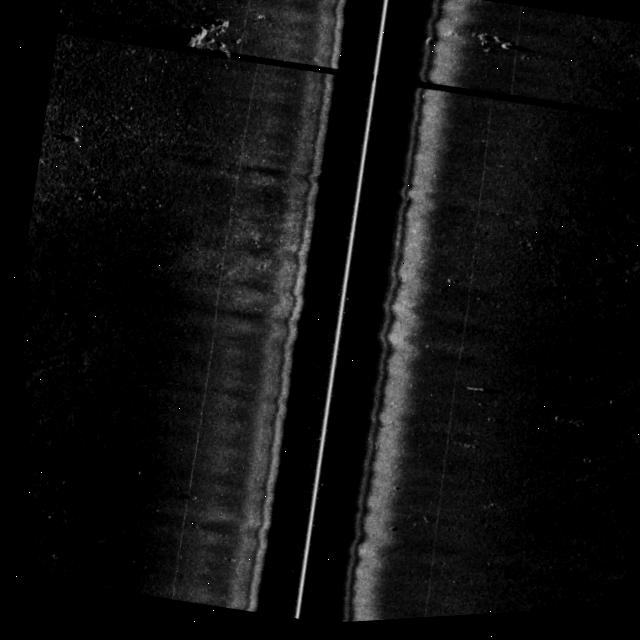mine: (454, 383, 499, 404)
